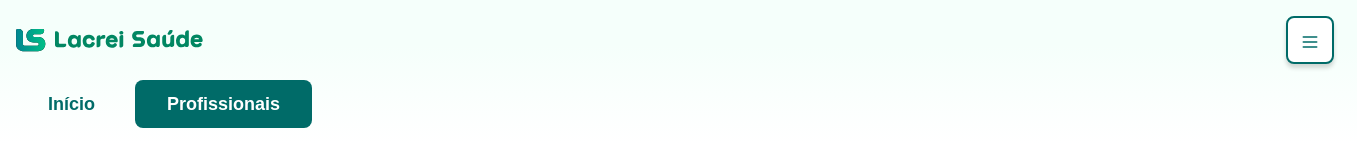
Header e footer responsivos › preserva o destino / e fecha ao selecionar Início
Click the button named "Abrir menu".
click(1310, 40)  # box [1286, 16, 1334, 64]
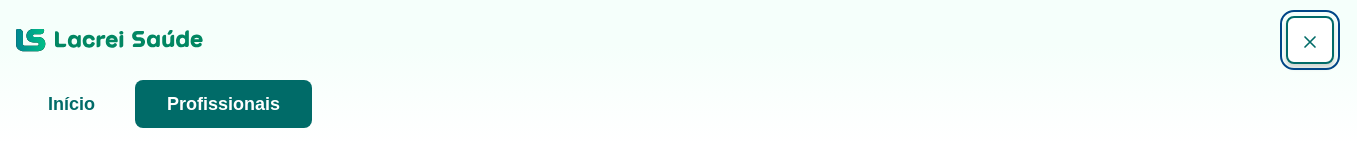
Click the link "Início".
click(72, 104)  # box [48, 94, 95, 114]
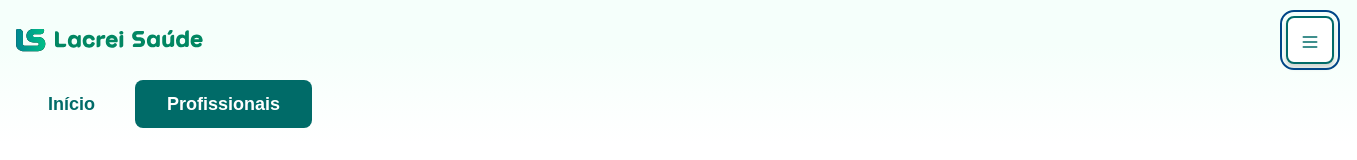
Expected: the button named "Abrir menu" is collapsed, [1286, 16, 1334, 64]
